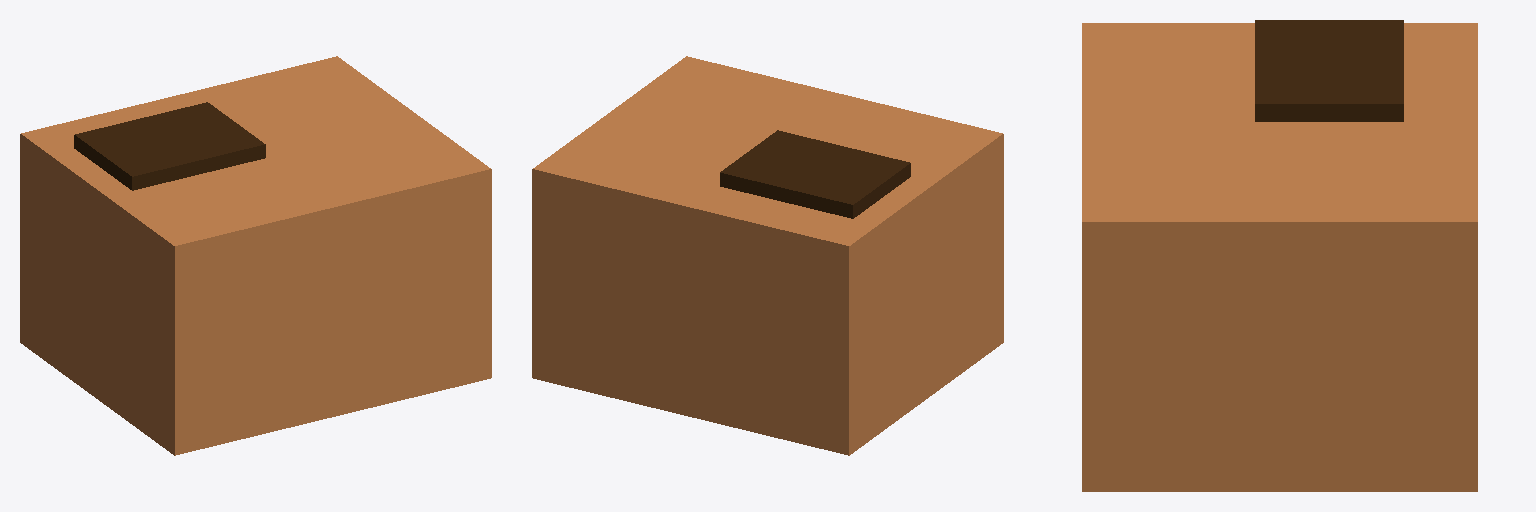
robot.urdf — box:
<?xml version="1.0"?>
<robot name="box">
  <link name="box">
    <visual>
      <material name="wood">
        <color rgba="0.82 0.56 0.35 1.0"/>
      </material>
      <origin xyz="0 0 0"/>
      <geometry>
        <box size="0.475 0.4 0.3"/>
      </geometry>
    </visual>
    <collision>
      <origin xyz="0 0 0"/>
      <geometry>
        <box size="0.475 0.4 0.3"/>
      </geometry>
    </collision>
    <!-- Cutting board -->
    <visual>
      <material name="dark_wood">
        <color rgba="0.3 0.2 0.1 1.0"/>
      </material>
      <origin xyz="-0.1 0.05 0.16"/>
      <geometry>
        <box size="0.2 0.15 0.02"/>
      </geometry>
    </visual>
    <collision>
      <origin xyz="-0.1 0.05 0.16"/>
      <geometry>
        <box size="0.2 0.15 0.02"/>
      </geometry>
    </collision>
    <inertial>
      <mass value="500"/>
      <friction value="1.0"/>
      <inertia ixx="1000.0" ixy="0.0" ixz="0.0" iyy="1000.0" iyz="0.0" izz="1000.0"/>
    </inertial>
  </link>
</robot>

--- Render facts (derived) ---
3 views of the same robot in one strip: view 1: azimuth 30°, elevation 25°; view 2: azimuth 150°, elevation 25°; view 3: azimuth 270°, elevation 25° (orthographic).
Model box with 1 links and 0 joints (none), rooted at box, posed all joints at 0.
Visible links, largest first — view 1: box; view 2: box; view 3: box.
Boxes of the visible links, <box> form: box: <box>20,56,491,455</box>; box: <box>532,56,1003,455</box>; box: <box>1082,20,1477,491</box>.
Bounding box of the posed robot: 0.475 × 0.4 × 0.32 m (x, y, z).
Geometry: primitives only (box / cylinder / sphere), no mesh files.
